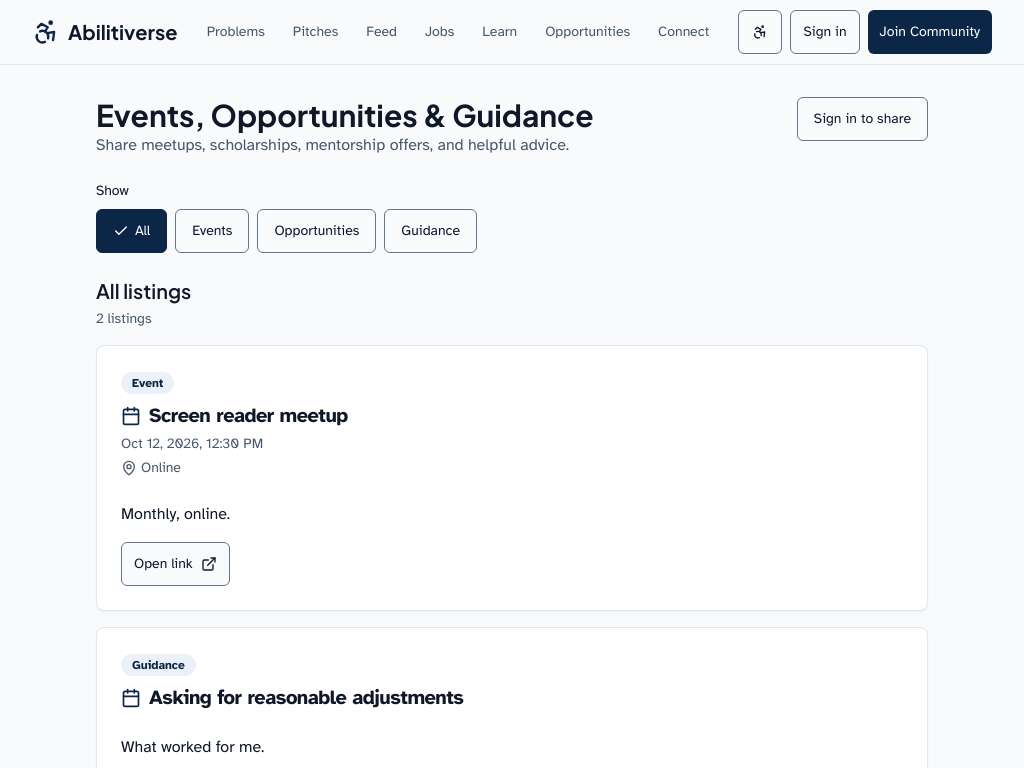
Opportunities › filters with the radios and announces the result
Expected: the text "Screen reader meetup" is shown, 149,402 -> 348,430
Click the radio button labelled "Guidance" at coordinates (431, 231), box 384,209 -> 477,253
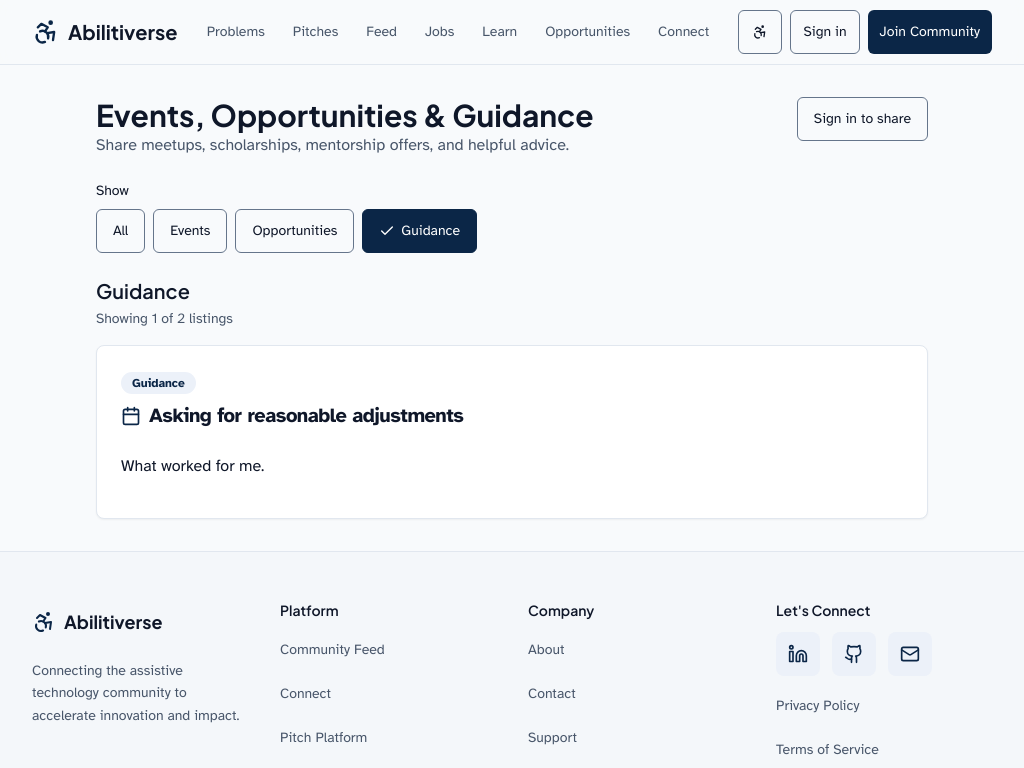
Result: the radio button labelled "Guidance" is checked at 362,209 -> 477,253
Result: the text "Screen reader meetup" is gone
Result: the text "Showing 1 of 2 listings" is shown at 96,310 -> 233,327
